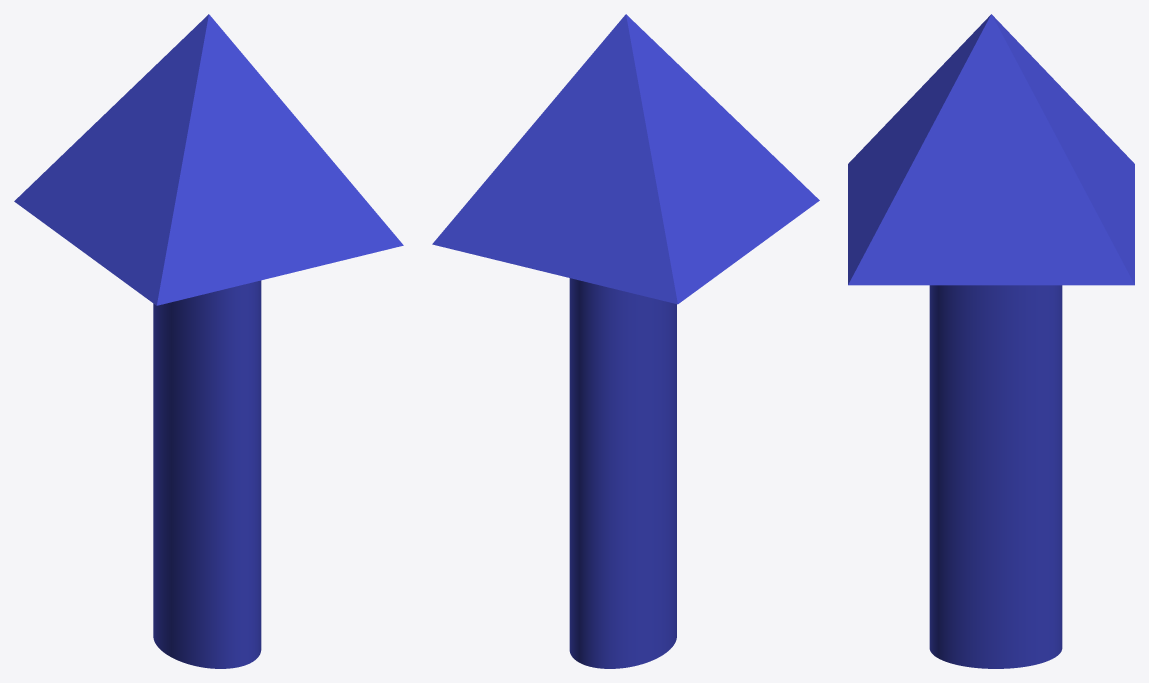
Rendered from arrow.fbx.
3 renders of one model, left to right at view 1: azimuth 30°, elevation 25°; view 2: azimuth 150°, elevation 25°; view 3: azimuth 270°, elevation 25°, orthographic.
Parts seen in each view (by area): view 1: root (×2); view 2: root (×2); view 3: root (×2).
Boxes of the visible parts, box(x1,y1,x2,y2) form: root (×2): box(14, 14, 403, 668); root (×2): box(432, 14, 819, 668); root (×2): box(848, 14, 1134, 668).
Size of the model in its own units: 0.1948 by 0.4747 by 0.1948.
